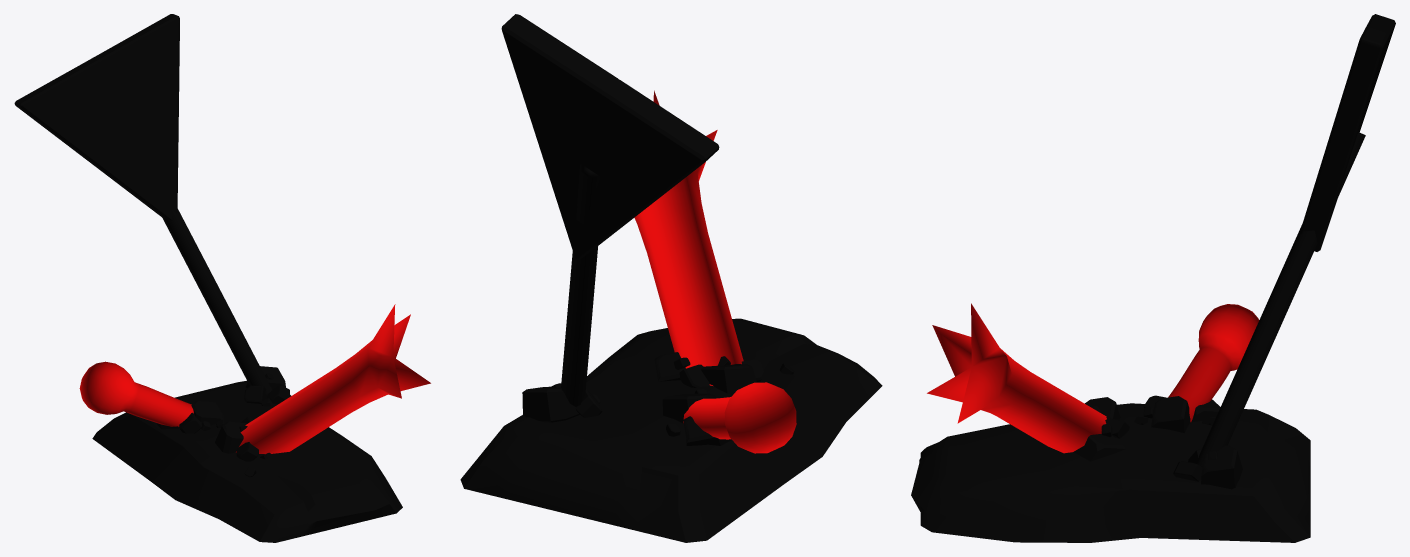
File: SM_Tombe01.fbx
3 views of the same model, side by side, from view 1: azimuth 30°, elevation 25°; view 2: azimuth 150°, elevation 25°; view 3: azimuth 270°, elevation 25° (orthographic). The views are drawn at different scales.
Parts seen in each view (by area): view 1: polySurface12, polySurface10, polySurface11; view 2: polySurface12, polySurface10, polySurface11; view 3: polySurface12, polySurface10, polySurface11.
Boxes of the visible parts, bbox=[...] form: polySurface12: bbox=[14, 14, 402, 542]; polySurface10: bbox=[236, 304, 430, 454]; polySurface11: bbox=[79, 361, 193, 426]; polySurface12: bbox=[460, 14, 882, 542]; polySurface10: bbox=[634, 90, 743, 385]; polySurface11: bbox=[683, 382, 796, 453]; polySurface12: bbox=[911, 14, 1395, 542]; polySurface10: bbox=[927, 303, 1106, 453]; polySurface11: bbox=[1168, 304, 1259, 422].
Size of the model in its own units: 2.26 by 3.46 by 3.17.
